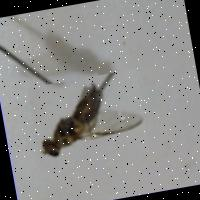Oriental-fruit-fly: (26, 68, 148, 170)
